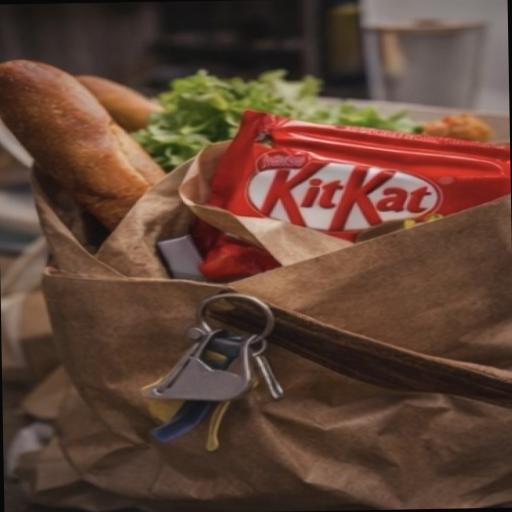kitkat: (166, 73, 512, 316)
